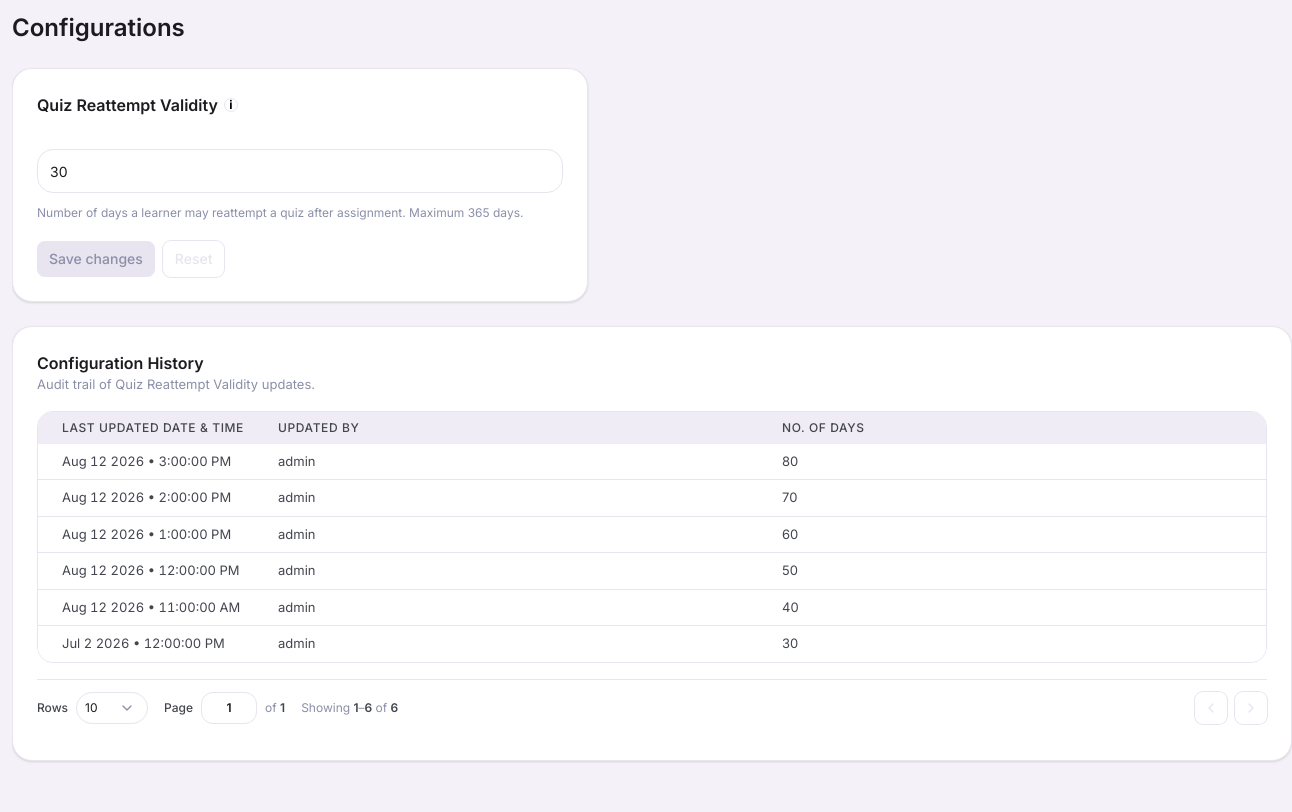
ConfigsPage configuration history › paginates history with the shared table controls
Expected: the text "80" is shown, top-left (758, 444), bottom-right (1266, 480)
Click the button named "configuration history rows per page" at (112, 708), box top-left (76, 692), bottom-right (148, 724)
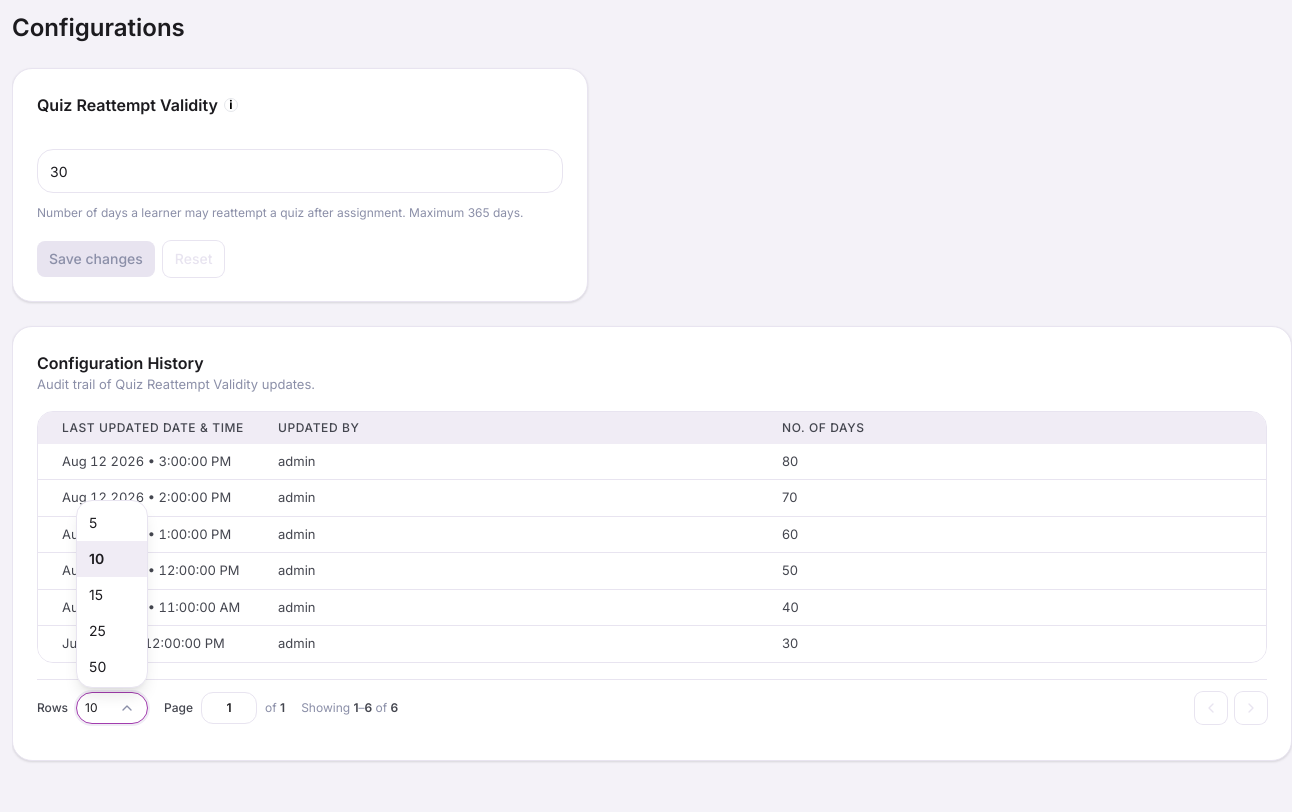
Click the option "5" at (93, 522), box top-left (89, 514), bottom-right (97, 530)
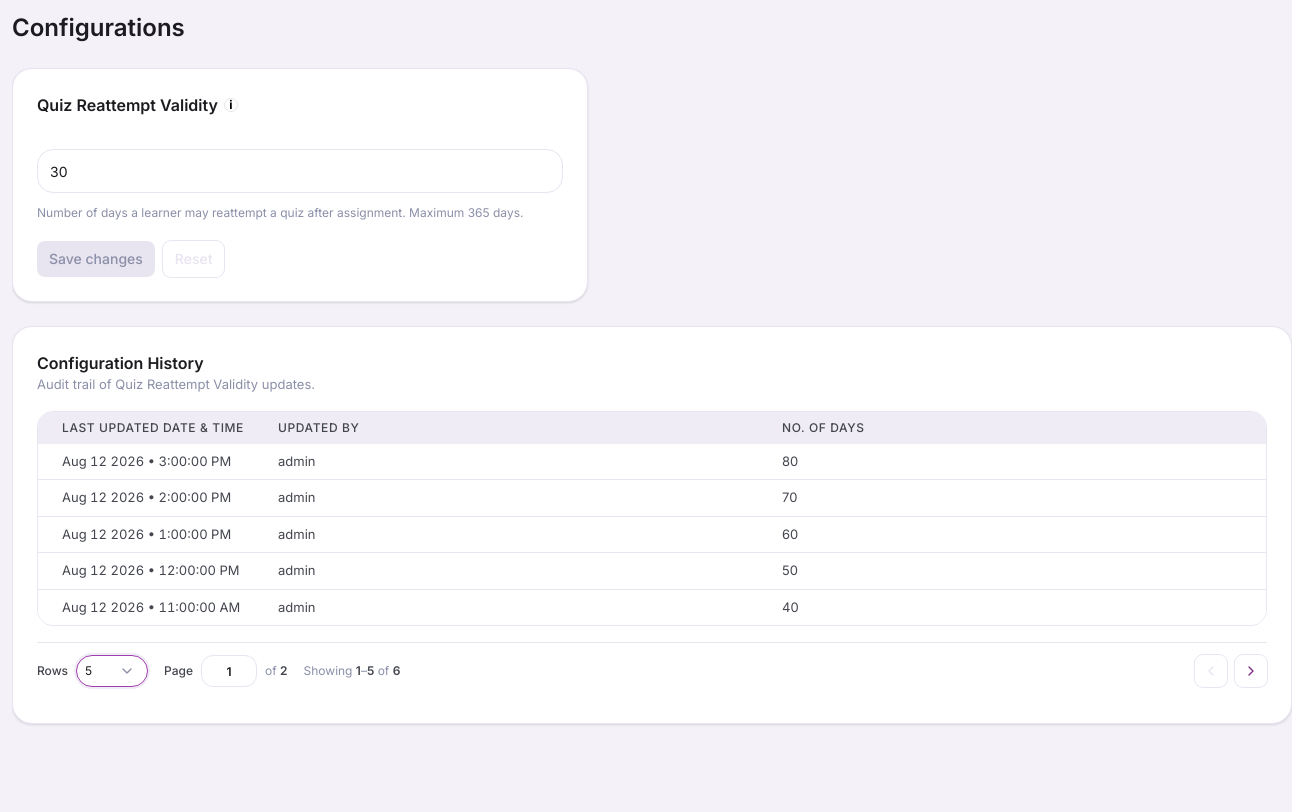
Expected: the button named "next page" is enabled
Click the button named "next page" at (1251, 671), box top-left (1235, 655), bottom-right (1267, 687)
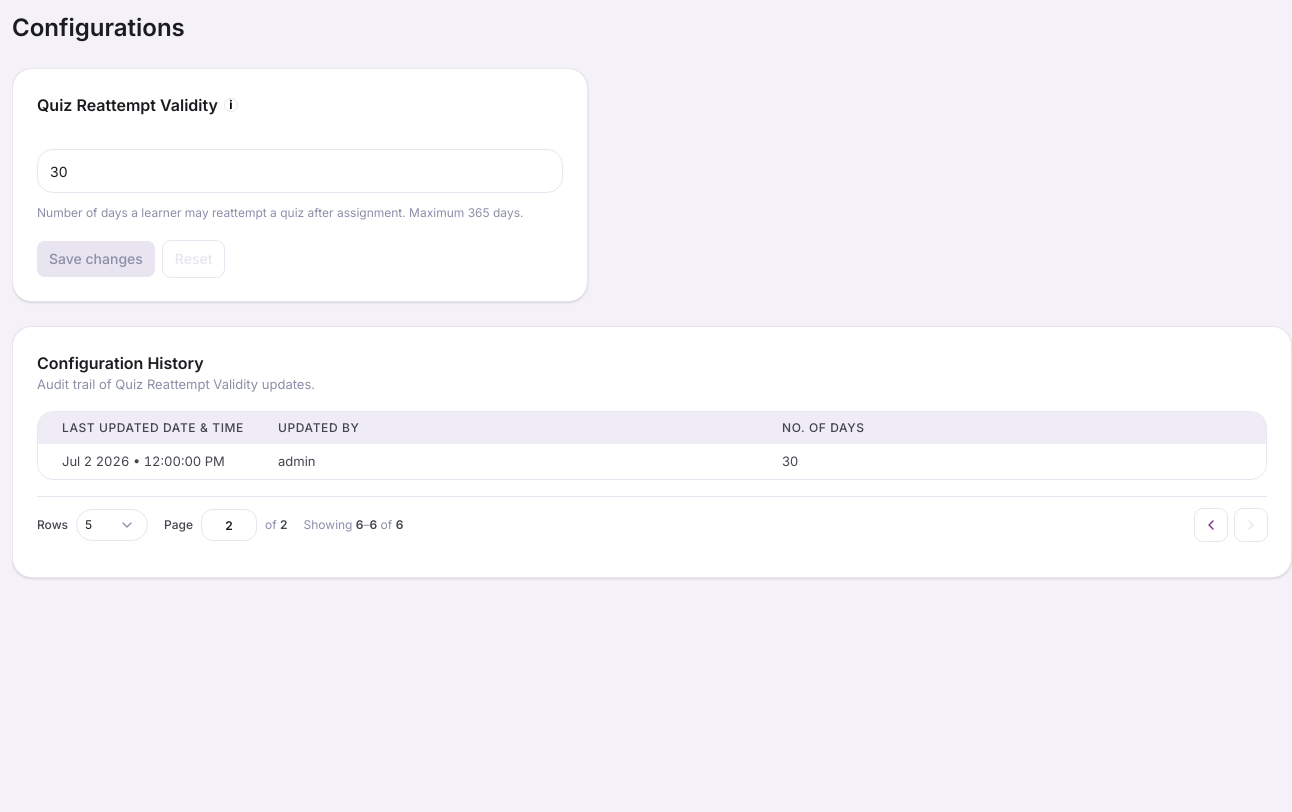
Expected: the text "30" is shown, top-left (758, 444), bottom-right (1266, 479)
Expected: the text "80" is gone
